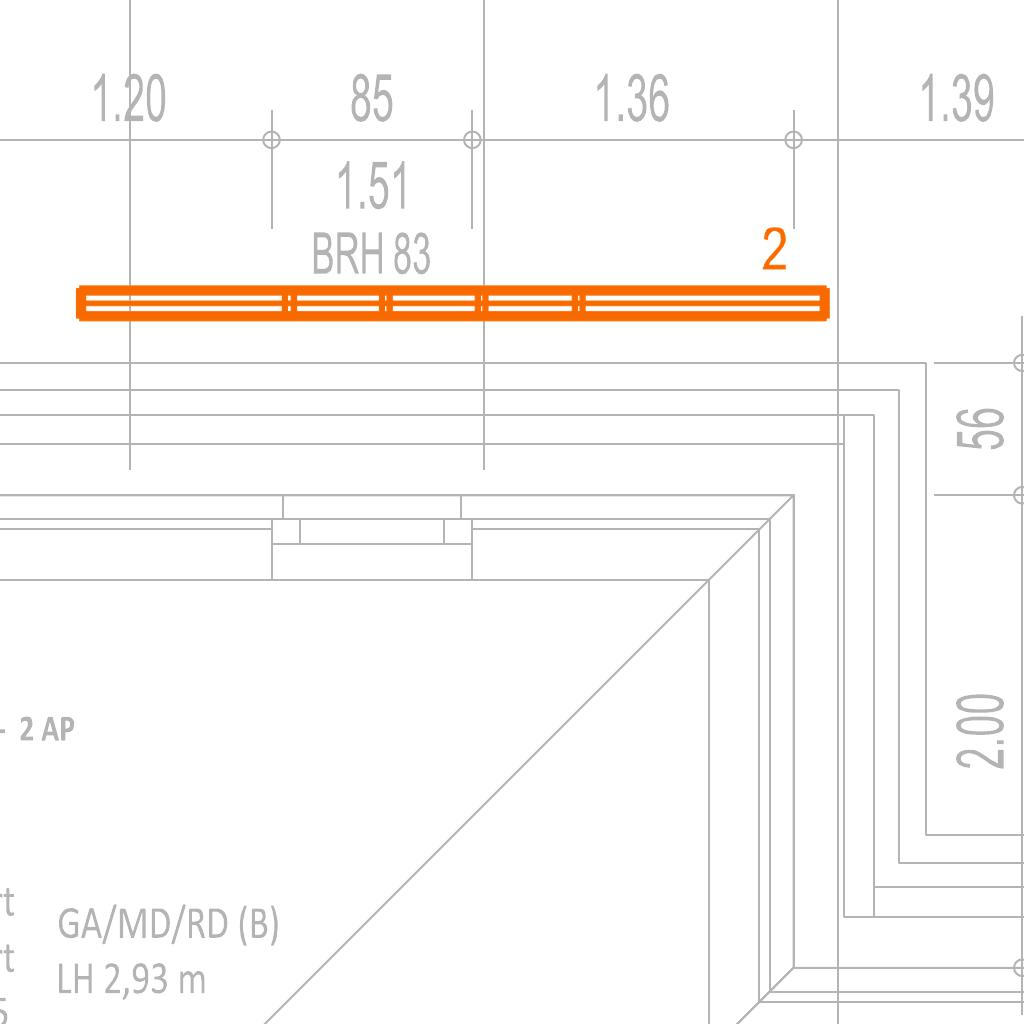Ambulanz_Pendelleuchte_LED: (65, 222, 839, 334)
